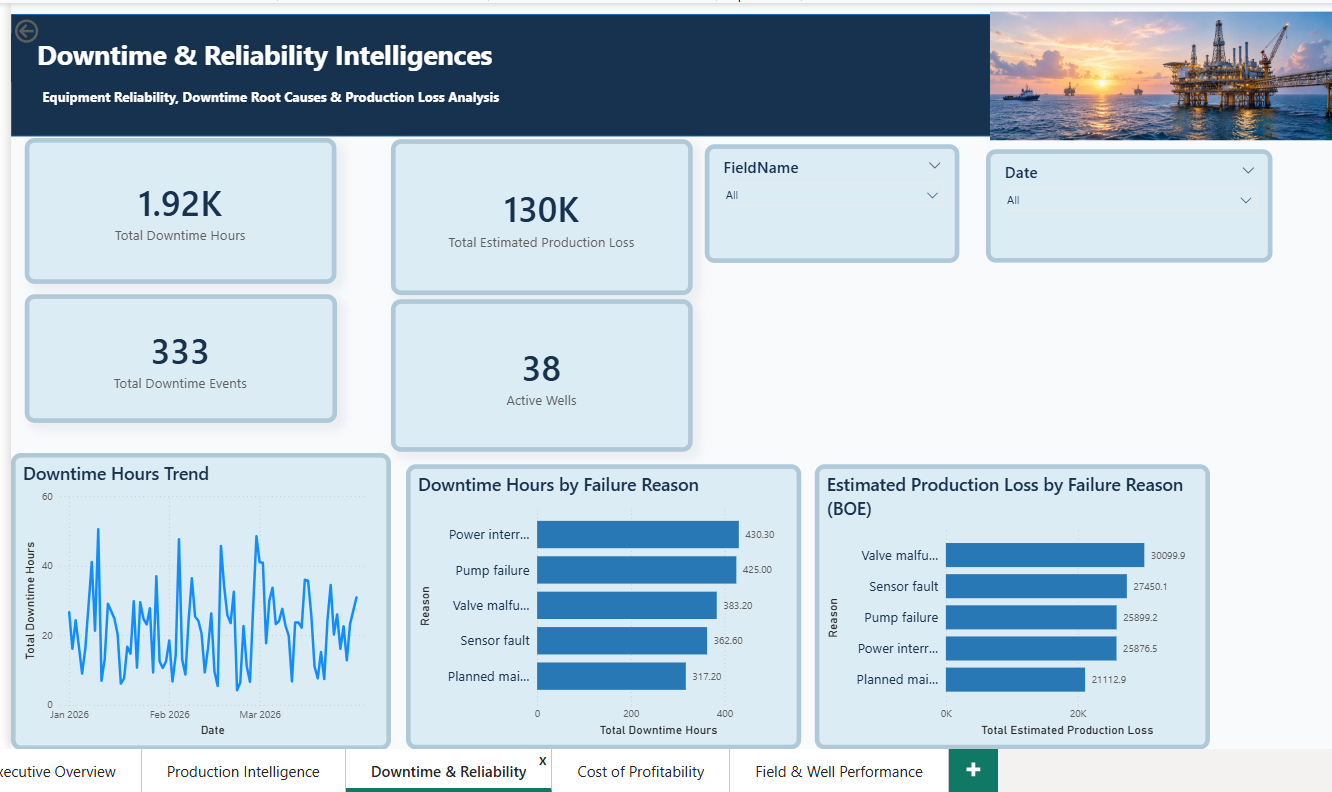

What the dashboard file says about the page in this screenshot:
{"tool":"powerbi","page":{"name":"Downtime & Reliability","canvas":[1600,900],"ordinal":2},"visuals":[{"type":"shape","box":[0,14.3,1193.1,147.4],"z":0},{"type":"textbox","box":[0,36.8,1103.1,59.4],"z":1000},{"type":"image","box":[1176.8,0,423.6,176],"z":2000},{"type":"textbox","box":[29.3,97,661,40.3],"z":3000},{"type":"card","fields":{"Values":["DailyProduction.Total Downtime Hours"]},"box":[16.1,163.1,376.3,175.6],"z":4000},{"type":"card","fields":{"Values":["DowntimeEvents.Total Estimated Production Loss"]},"box":[458.4,163.7,364.3,188.3],"z":5000},{"type":"card","fields":{"Values":["Wells.Active Wells"]},"box":[458.4,358.1,364.3,184.2],"z":6000},{"type":"card","fields":{"Values":["DowntimeEvents.Total Downtime Events"]},"box":[16.4,352,376.6,155.5],"z":7000},{"type":"lineChart","title":"Downtime Hours Trend","fields":{"Y":["DailyProduction.Total Downtime Hours"],"Category":["DowntimeEvents.Date"]},"box":[0,542.3,458.4,358.1],"z":8000},{"type":"clusteredBarChart","title":"Downtime Hours by Failure Reason","fields":{"Category":["DowntimeEvents.Reason"],"Y":["DailyProduction.Total Downtime Hours"]},"box":[476.9,556.7,476.9,343.8],"z":9000},{"type":"clusteredBarChart","title":"Estimated Production Loss by Failure Reason (BOE)","fields":{"Category":["DowntimeEvents.Reason"],"Y":["DowntimeEvents.Total Estimated Production Loss"]},"box":[970.1,556.7,476.9,343.8],"z":10000},{"type":"slicer","fields":{"Values":["Fields.FieldName"]},"box":[837,169.9,307,143.3],"z":11000},{"type":"slicer","fields":{"Values":["DowntimeEvents.Date"]},"box":[1176.8,176,345.9,137.1],"z":12000},{"type":"actionButton","box":[0,14.3,98.6,37.6],"z":12001}]}

Visuals, with their boxes on the page's 1600x900 design canvas (x1, y1, x2, y2). These are canvas units, not pixel positions in the 1332x792 screenshot, which may show the page scaled, cropped or inside an application window:
shape: left=0, top=14, right=1193, bottom=162
textbox: left=0, top=37, right=1103, bottom=96
image: left=1177, top=0, right=1600, bottom=176
textbox: left=29, top=97, right=690, bottom=137
card - DailyProduction.Total Downtime Hours: left=16, top=163, right=392, bottom=339
card - DowntimeEvents.Total Estimated Production Loss: left=458, top=164, right=823, bottom=352
card - Wells.Active Wells: left=458, top=358, right=823, bottom=542
card - DowntimeEvents.Total Downtime Events: left=16, top=352, right=393, bottom=508
"Downtime Hours Trend" lineChart: left=0, top=542, right=458, bottom=900
"Downtime Hours by Failure Reason" clusteredBarChart: left=477, top=557, right=954, bottom=900
"Estimated Production Loss by Failure Reason (BOE)" clusteredBarChart: left=970, top=557, right=1447, bottom=900
slicer - Fields.FieldName: left=837, top=170, right=1144, bottom=313
slicer - DowntimeEvents.Date: left=1177, top=176, right=1523, bottom=313
actionButton: left=0, top=14, right=99, bottom=52
